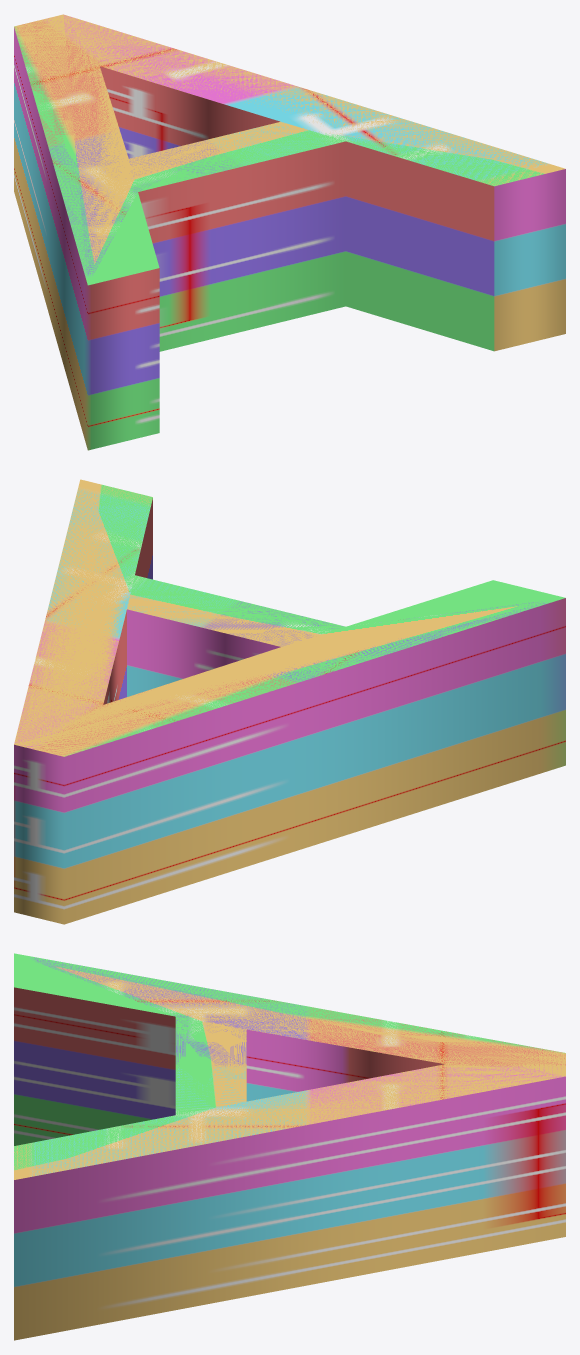
Rendered from letterA.gltf.
3 views of the same model, one above another, from view 1: azimuth 30°, elevation 25°; view 2: azimuth 150°, elevation 25°; view 3: azimuth 270°, elevation 25° (orthographic). The views are drawn at different scales.
Parts seen in each view (by area): view 1: 文本, 文本.001; view 2: 文本, 文本.001; view 3: 文本, 文本.001.
Part boxes in pixels (<box>): 文本: <box>14,14,565,450</box>; 文本.001: <box>15,14,562,283</box>; 文本: <box>14,479,565,924</box>; 文本.001: <box>14,480,559,756</box>; 文本: <box>14,953,565,1340</box>; 文本.001: <box>14,954,565,1179</box>.
Size of the model in its own units: 0.667 by 0.22 by 0.686.
1 material, 1 textured.
